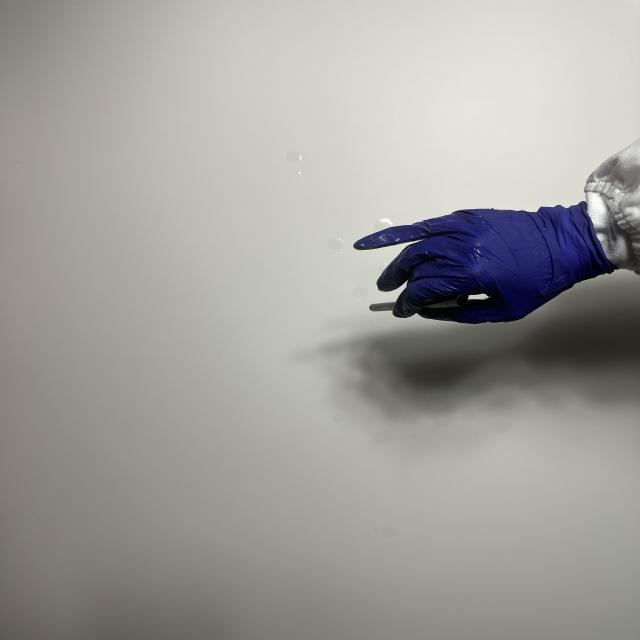gloves_contaminated: (354, 202, 616, 323)
